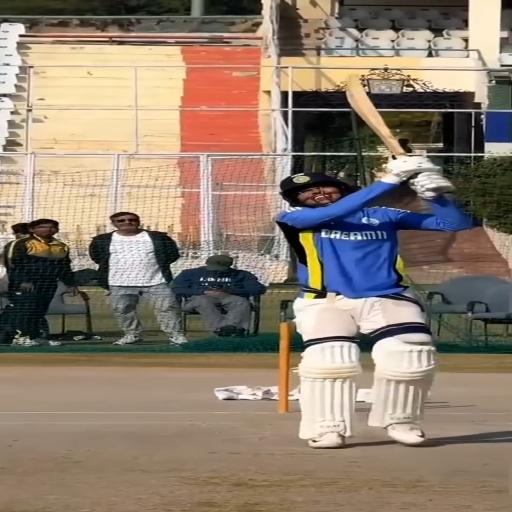Cricket bat: (346, 75, 407, 157)
